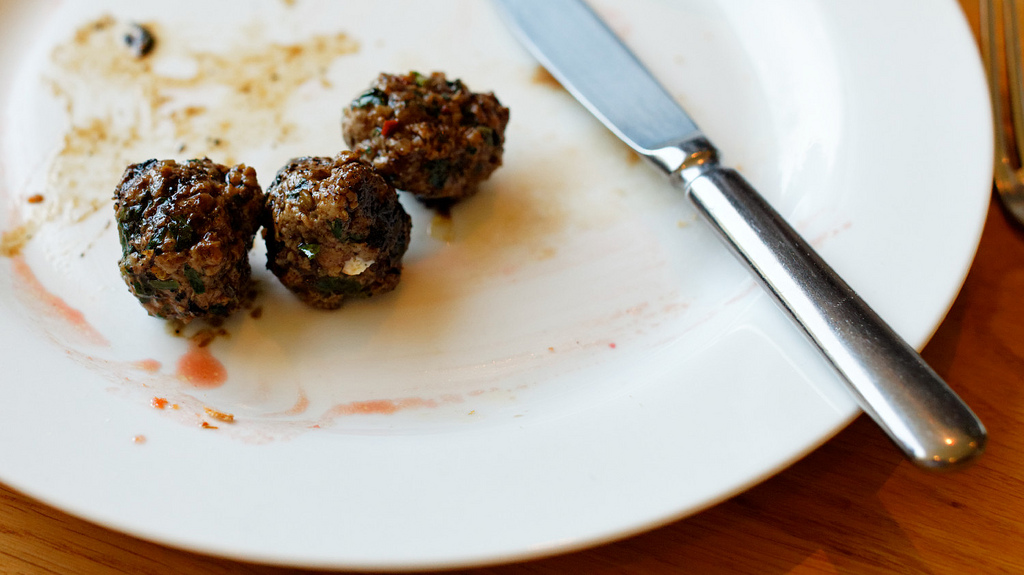meatballs: (262, 150, 401, 303), (131, 161, 244, 314), (359, 70, 490, 198)
